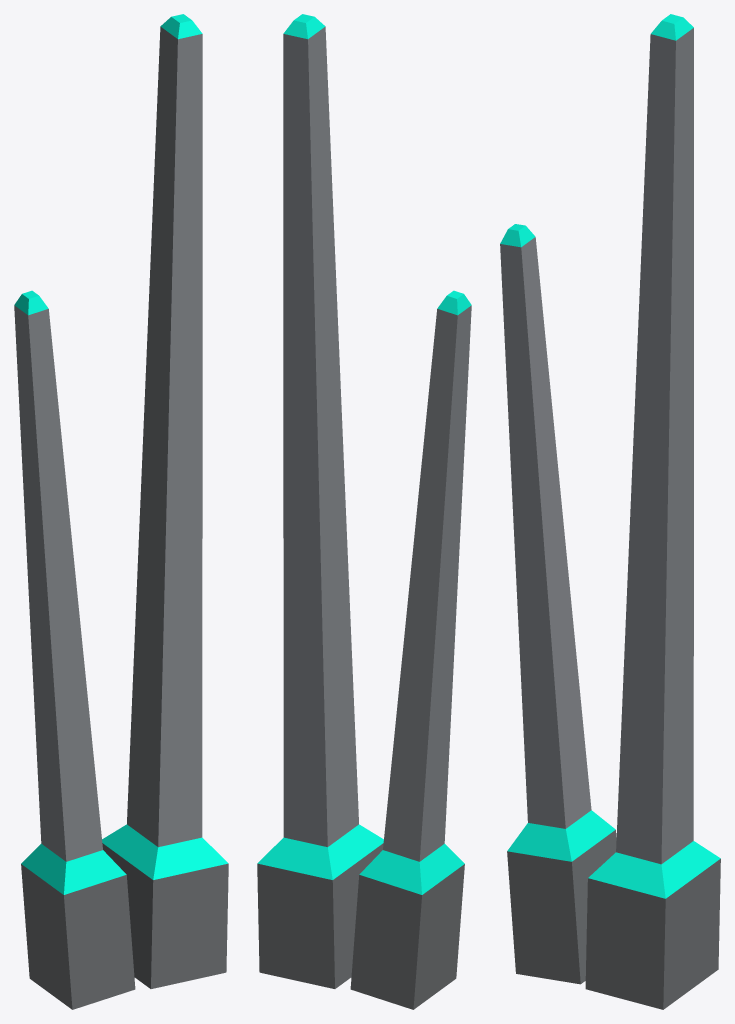
The model's file is SM_Prop_Antenna_07.fbx.
The picture shows the model from 3 angles, left to right: view 1: azimuth 30°, elevation 25°; view 2: azimuth 150°, elevation 25°; view 3: azimuth 330°, elevation 25°; orthographic projection. The views are drawn at different scales.
Parts seen in each view (by area): view 1: SM_Prop_Antenna_07; view 2: SM_Prop_Antenna_07; view 3: SM_Prop_Antenna_07.
Part boxes in pixels (x1,y1,x2,y2): SM_Prop_Antenna_07: (14, 14, 228, 1009); SM_Prop_Antenna_07: (257, 14, 471, 1009); SM_Prop_Antenna_07: (500, 14, 720, 1009).
Bounding box in the file's own units: 17.67 × 88.19 × 9.08.
